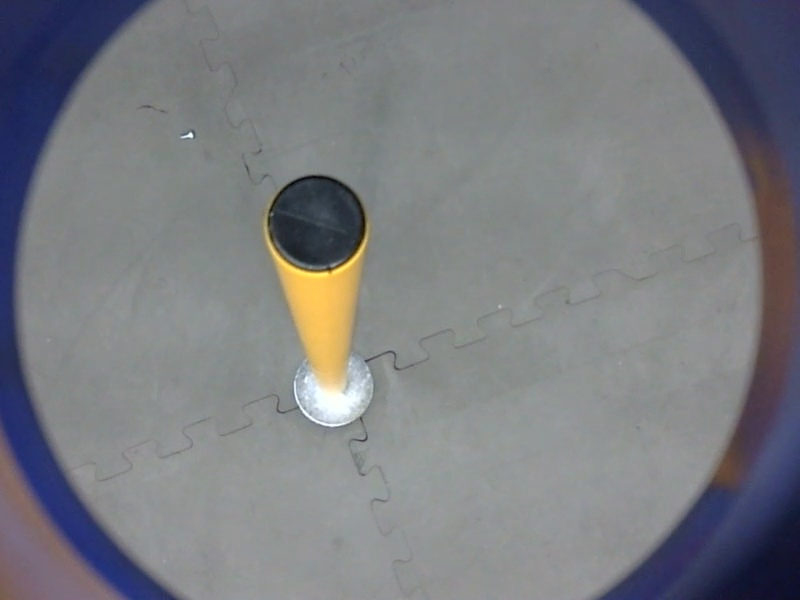tip: (257, 169, 377, 280)
